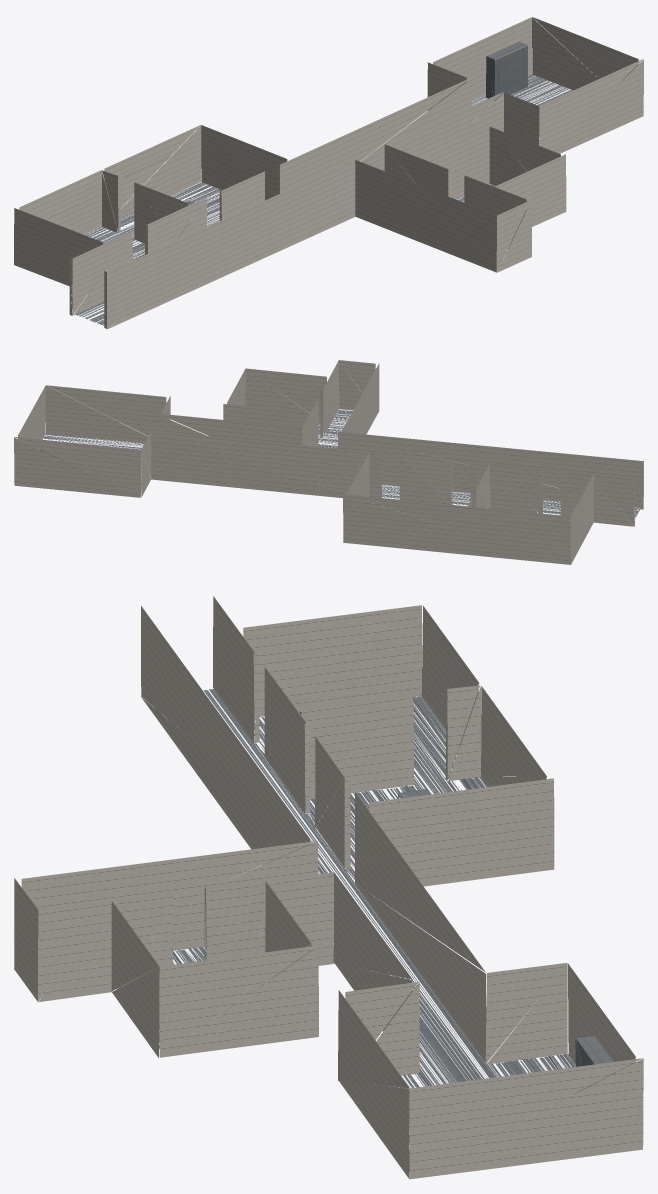
Rendered from sim.glb.
The picture shows the model from 3 angles, top to bottom: view 1: azimuth 30°, elevation 25°; view 2: azimuth 150°, elevation 25°; view 3: azimuth 270°, elevation 25°; orthographic projection. The views are drawn at different scales.
Parts seen in each view (by area): view 1: walls, floor, furniture; view 2: walls, floor, ceiling; view 3: walls, floor, furniture.
Boxes of the visible parts, x1,y1,x2,y2 form: walls: [14, 17, 643, 329]; floor: [75, 74, 573, 325]; furniture: [186, 41, 527, 209]; walls: [14, 360, 643, 564]; floor: [38, 408, 639, 523]; ceiling: [349, 437, 632, 512]; walls: [14, 596, 643, 1179]; floor: [41, 689, 575, 1158]; furniture: [397, 789, 616, 1092].
Bounding box in the file's own units: 30.2 × 2.67 × 16.27.
4 materials, 4 textured.
